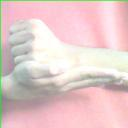hand: (0, 61, 127, 101), (8, 18, 61, 64)
